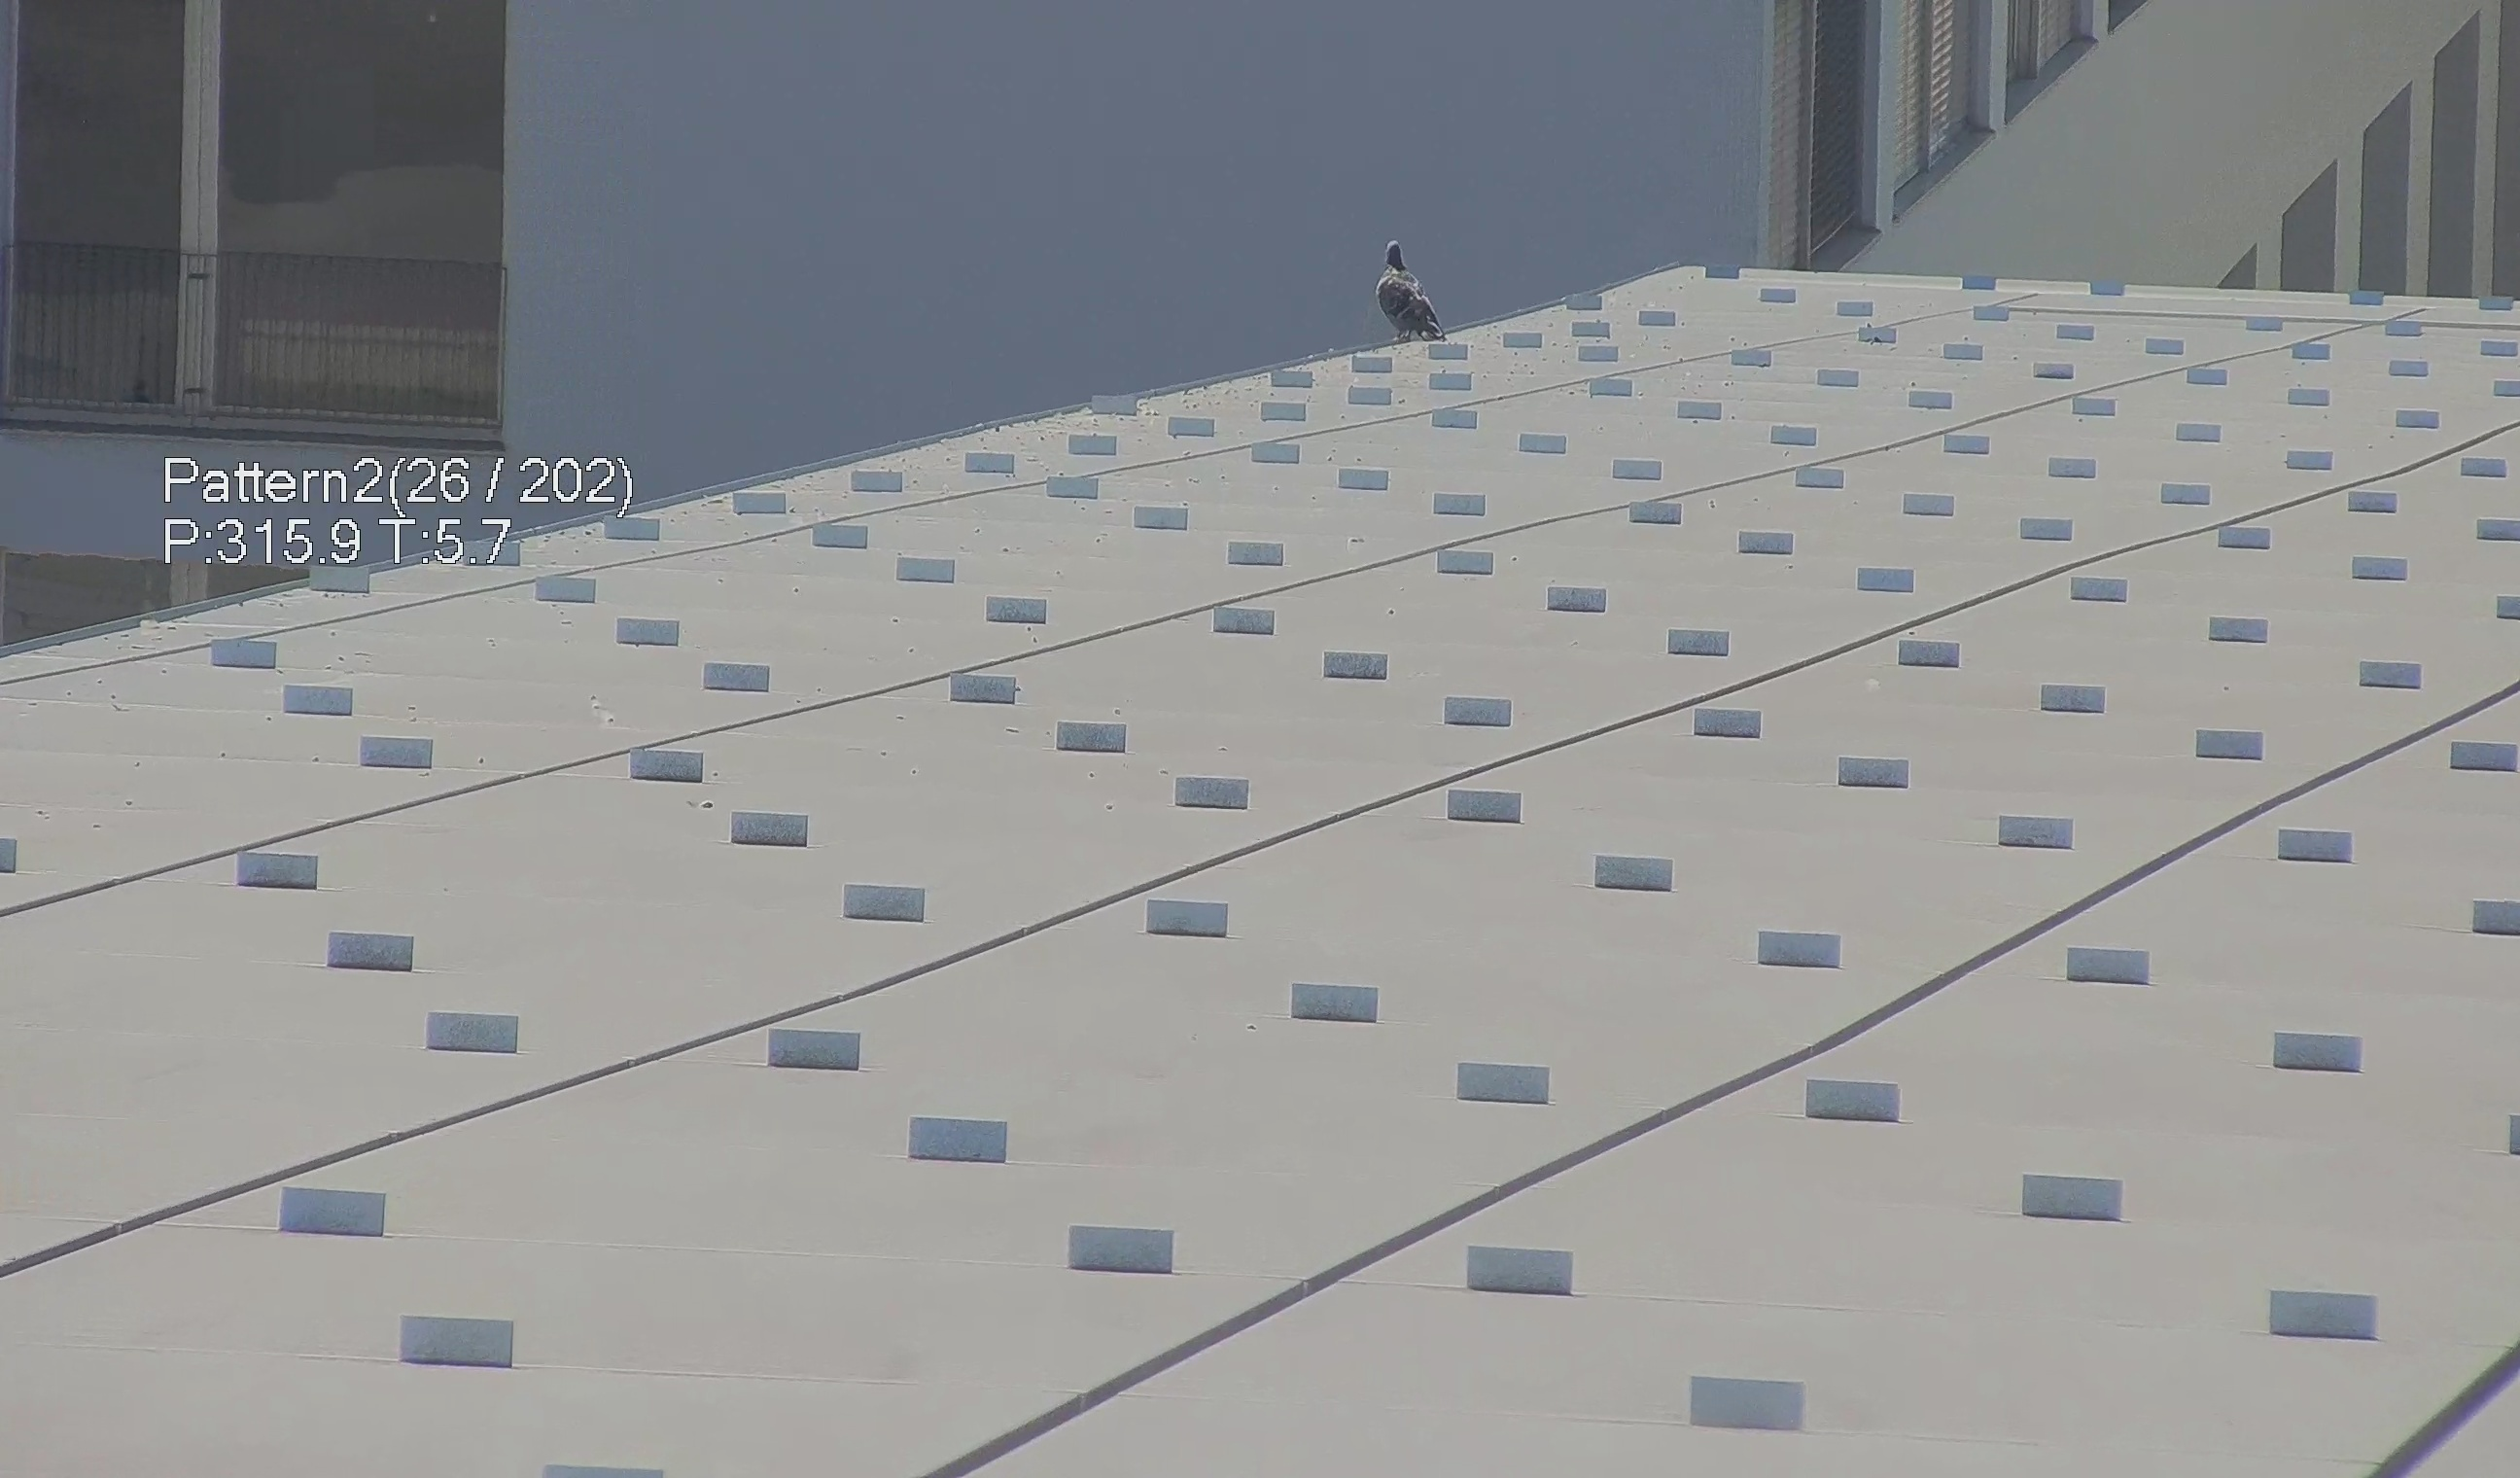Pigeon: (1358, 225, 1451, 348)
